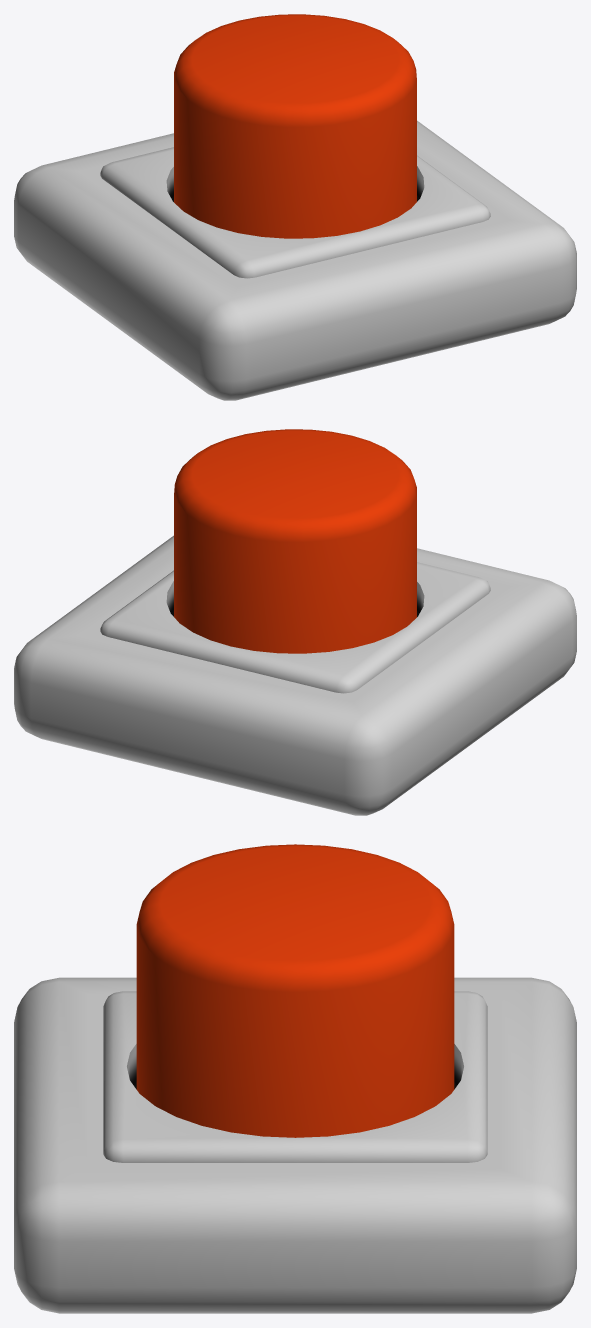
File: Button.fbx
The picture shows the model from 3 angles, top to bottom: view 1: azimuth 30°, elevation 25°; view 2: azimuth 150°, elevation 25°; view 3: azimuth 270°, elevation 25°; orthographic projection. The views are drawn at different scales.
Parts seen in each view (by area): view 1: Button; view 2: Button; view 3: Button.
Part boxes in pixels (box(x1,y1,x2,y2)): Button: box(14, 14, 576, 400); Button: box(14, 429, 576, 815); Button: box(14, 844, 576, 1313).
Bounding box in the file's own units: 200 × 120 × 200.
1 material, 1 textured.
